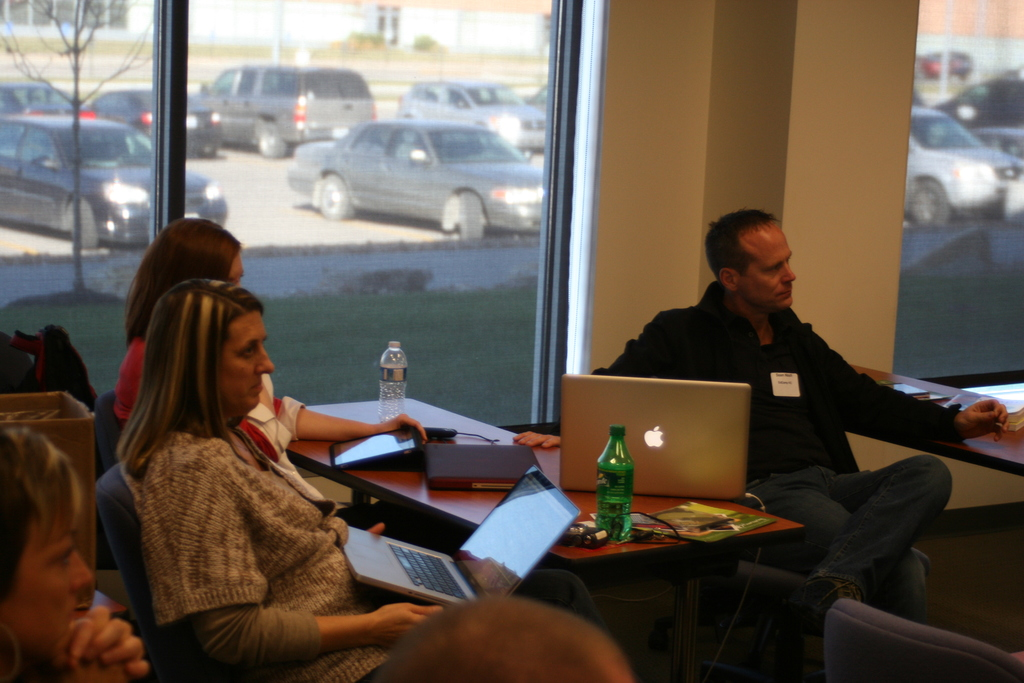cars: (0, 113, 224, 253), (288, 118, 550, 235), (201, 70, 378, 158), (904, 106, 1023, 232), (87, 87, 225, 157), (400, 78, 550, 141), (912, 51, 971, 111), (0, 79, 94, 115)
